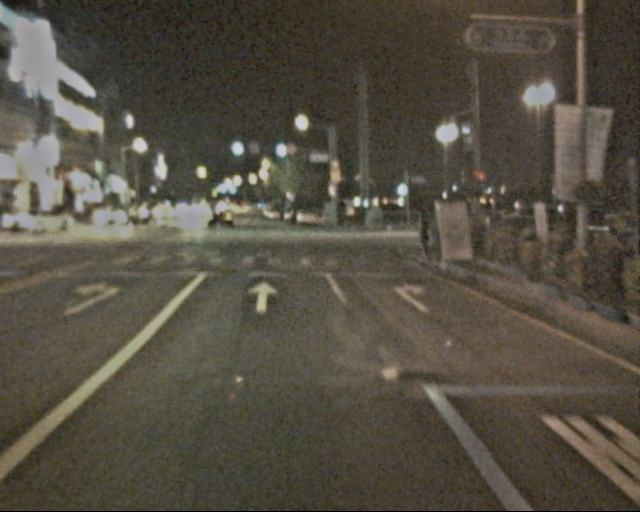person: (416, 210, 437, 265)
